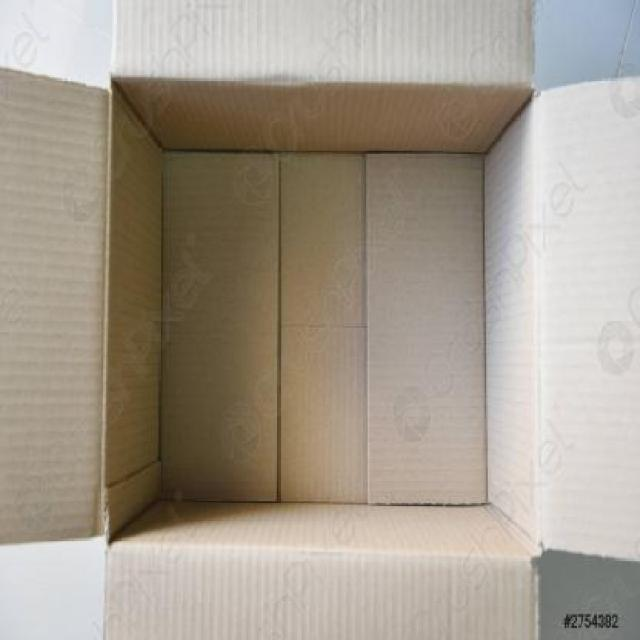box: (53, 20, 603, 632)
